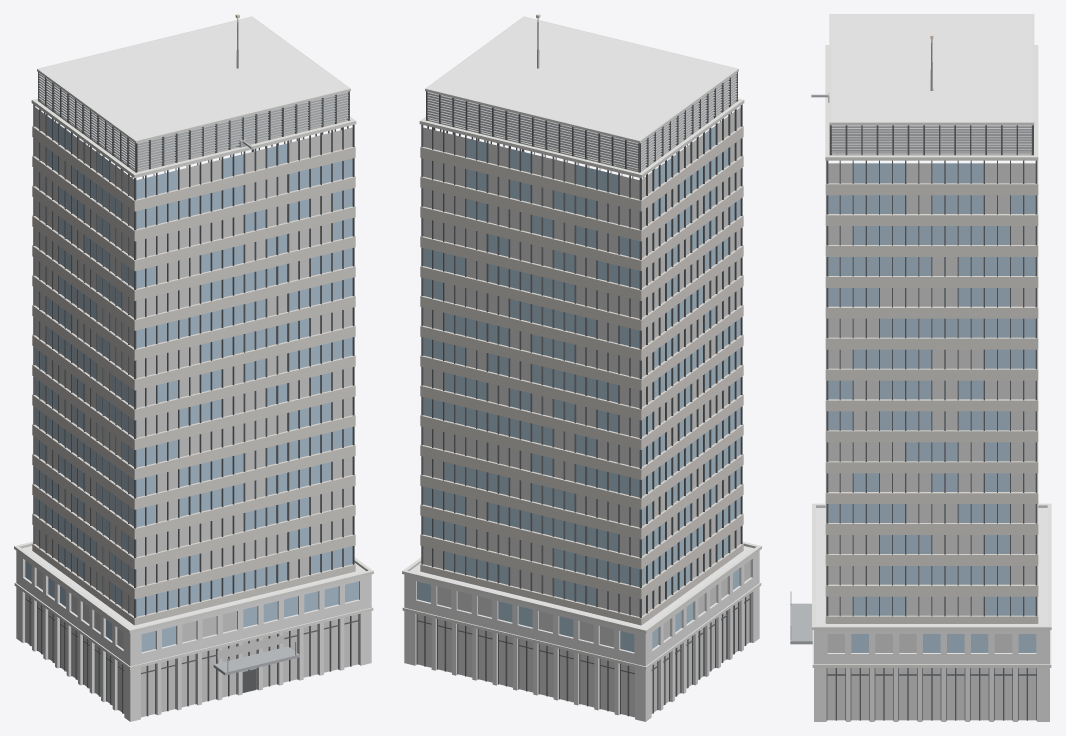
The model's file is tower_block245.glb.
3 views of the same model, side by side, from view 1: azimuth 30°, elevation 25°; view 2: azimuth 150°, elevation 25°; view 3: azimuth 270°, elevation 25° (orthographic). The views are drawn at different scales.
Parts seen in each view (by area): view 1: tower_block245_Walls, tower_block245_Glass, tower_block245_WindowsLit, tower_block245_Frames, tower_block245_Roof, tower_block245_Walls2, tower_block245_Details, tower_block245_Trim, tower_block245_Accent, tower_block245_Brand; view 2: tower_block245_Walls, tower_block245_WindowsLit, tower_block245_Glass, tower_block245_Frames, tower_block245_Roof, tower_block245_Walls2, tower_block245_Details, tower_block245_Trim; view 3: tower_block245_Walls, tower_block245_Glass, tower_block245_WindowsLit, tower_block245_Roof, tower_block245_Frames, tower_block245_Walls2, tower_block245_Trim, tower_block245_Details, tower_block245_Accent.
Part boxes in pixels (x1=…): tower_block245_Walls: x1=32, y1=100, x2=355, y2=625; tower_block245_Glass: x1=25, y1=116, x2=358, y2=652; tower_block245_WindowsLit: x1=26, y1=107, x2=358, y2=717; tower_block245_Frames: x1=25, y1=72, x2=359, y2=716; tower_block245_Roof: x1=22, y1=17, x2=365, y2=628; tower_block245_Walls2: x1=16, y1=551, x2=371, y2=721; tower_block245_Details: x1=38, y1=18, x2=348, y2=671; tower_block245_Trim: x1=14, y1=16, x2=373, y2=669; tower_block245_Accent: x1=213, y1=646, x2=299, y2=675; tower_block245_Brand: x1=217, y1=635, x2=284, y2=659; tower_block245_Walls: x1=420, y1=100, x2=743, y2=625; tower_block245_WindowsLit: x1=417, y1=107, x2=750, y2=717; tower_block245_Glass: x1=417, y1=126, x2=740, y2=652; tower_block245_Frames: x1=416, y1=72, x2=750, y2=716; tower_block245_Roof: x1=410, y1=17, x2=753, y2=628; tower_block245_Walls2: x1=404, y1=551, x2=759, y2=721; tower_block245_Details: x1=427, y1=18, x2=737, y2=170; tower_block245_Trim: x1=402, y1=16, x2=761, y2=669; tower_block245_Walls: x1=825, y1=154, x2=1038, y2=623; tower_block245_Glass: x1=828, y1=163, x2=1036, y2=652; tower_block245_WindowsLit: x1=827, y1=163, x2=1036, y2=720; tower_block245_Roof: x1=816, y1=14, x2=1047, y2=625; tower_block245_Frames: x1=826, y1=125, x2=1037, y2=720; tower_block245_Walls2: x1=814, y1=630, x2=1049, y2=721; tower_block245_Trim: x1=812, y1=14, x2=1051, y2=667; tower_block245_Details: x1=790, y1=39, x2=1031, y2=639; tower_block245_Accent: x1=790, y1=603, x2=812, y2=644.
Size of the model in its own units: 111 by 273 by 99.7.
